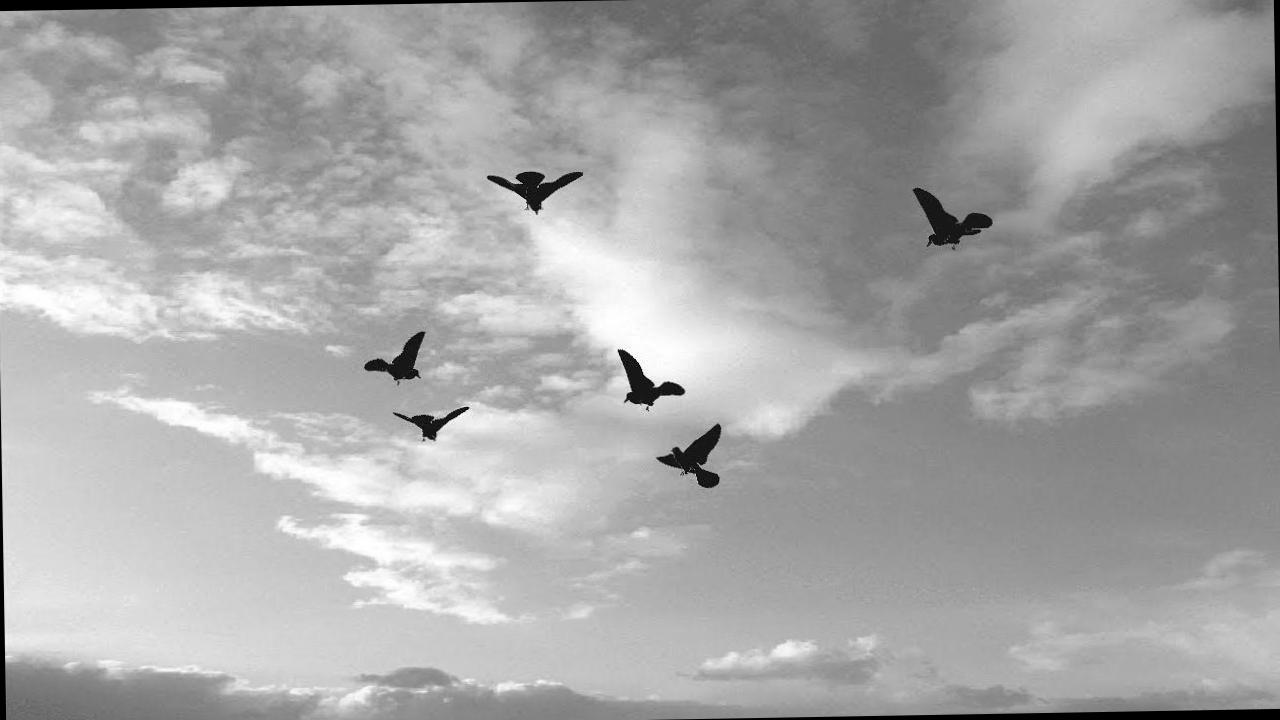bird: (894, 172, 996, 270), (596, 326, 689, 413), (644, 418, 748, 495), (474, 162, 590, 222), (356, 321, 436, 388), (384, 402, 478, 454)
